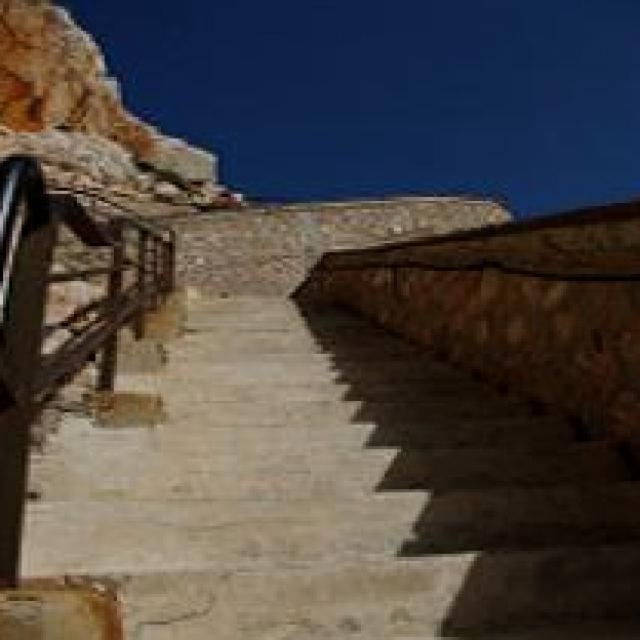upstair: (75, 333, 635, 640)
